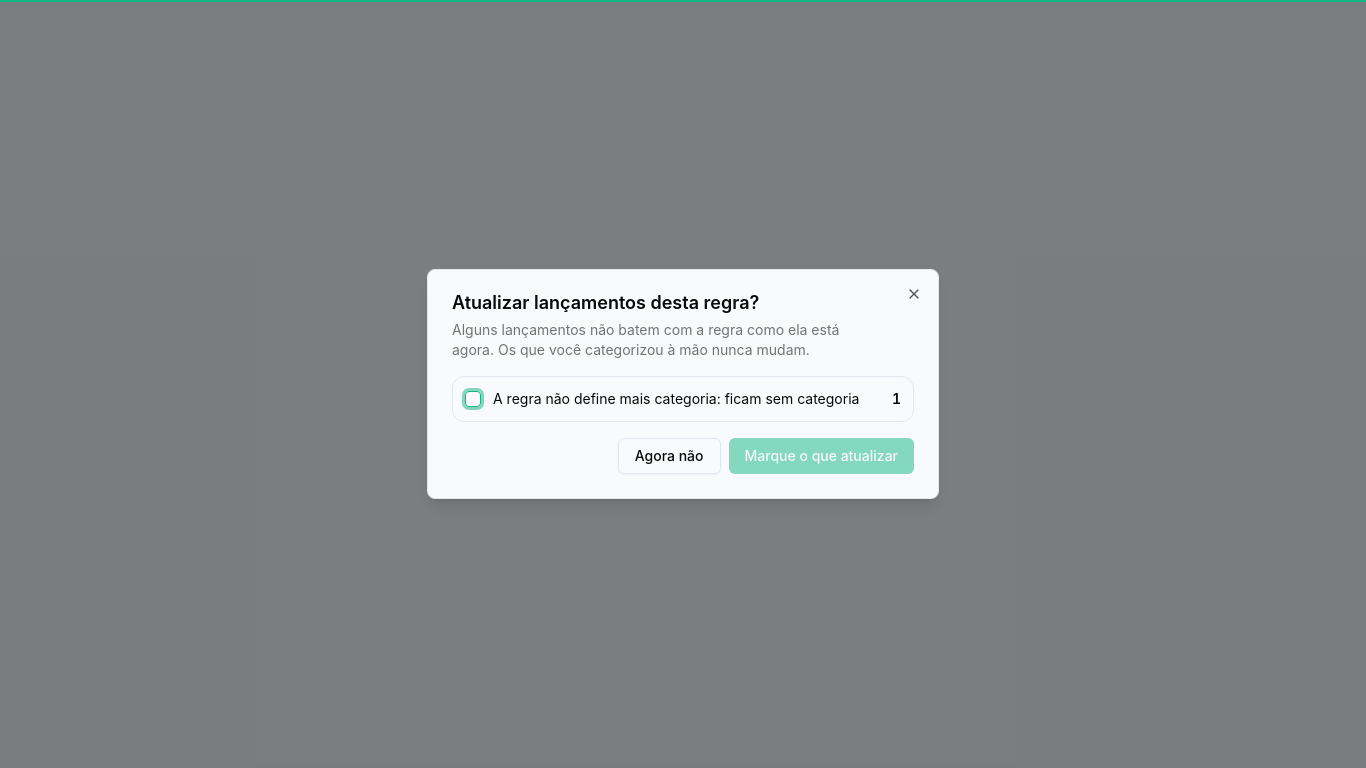
Test: ReconcileRuleDialog › sem nada marcado, o botão pede para marcar e fica desabilitado
Expected: the button "Marque o que atualizar" is disabled, [728,438,914,474]
Click the checkbox named "A regra não define mais categoria" at (473, 399), box [465,391,481,407]
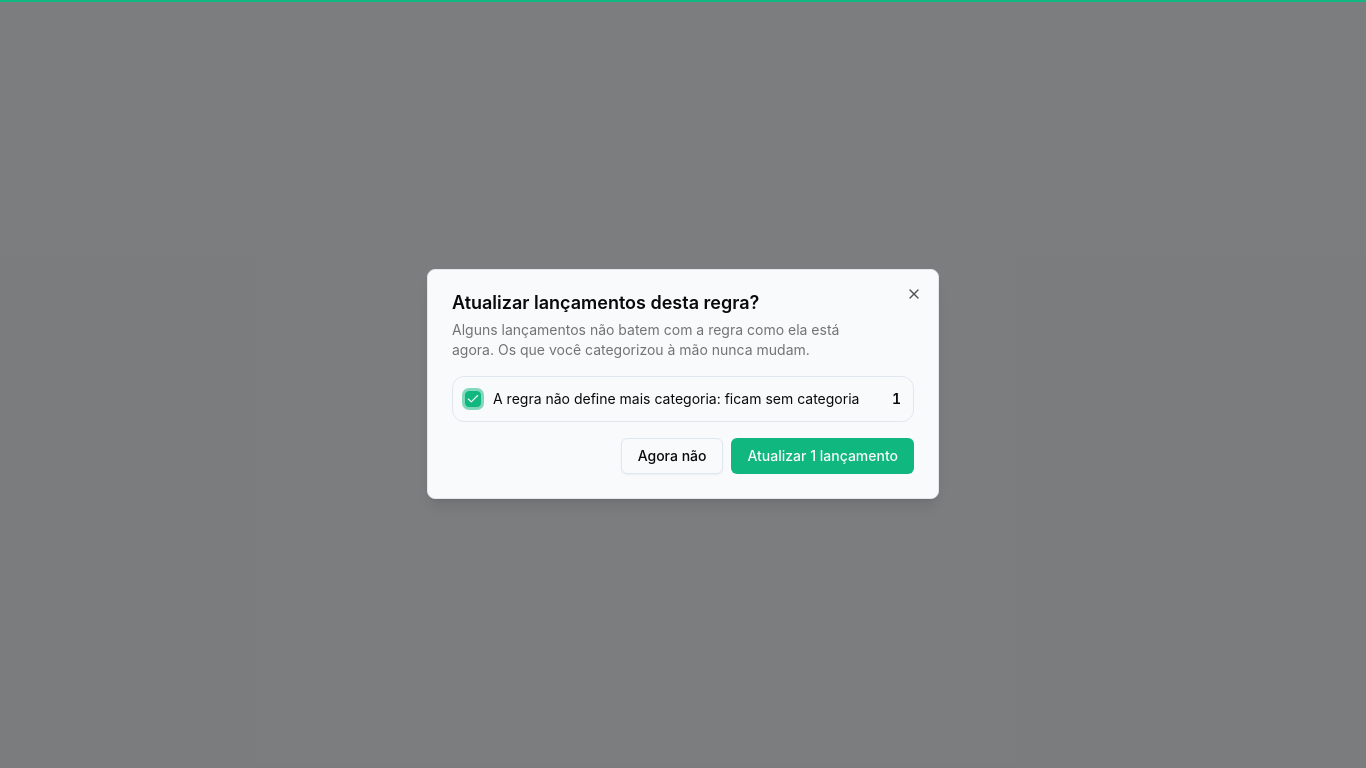
Expected: the button "Atualizar 1 lançamento" is enabled, [732,438,914,474]
